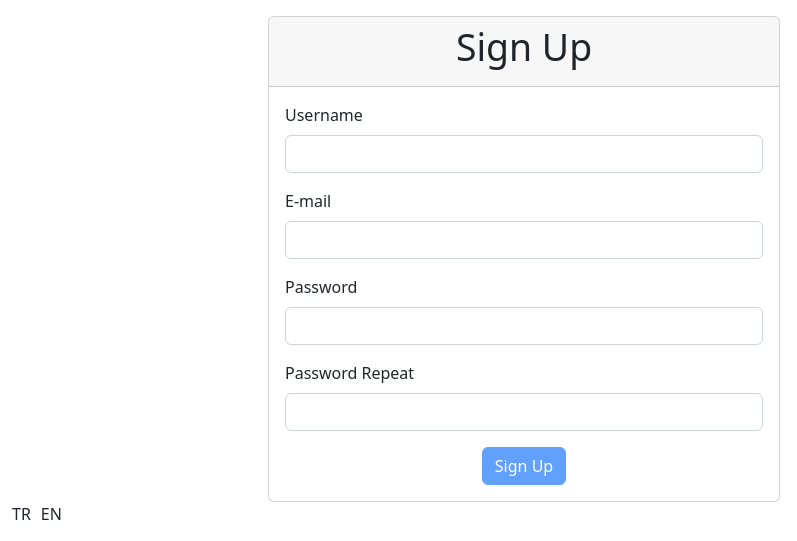
it: Sign Up Page › Internationalization › displays all text in Turkish after selecting that language
Click the text titled "Türkçe".
click(21, 514)  # box left=12, top=503, right=31, bottom=525
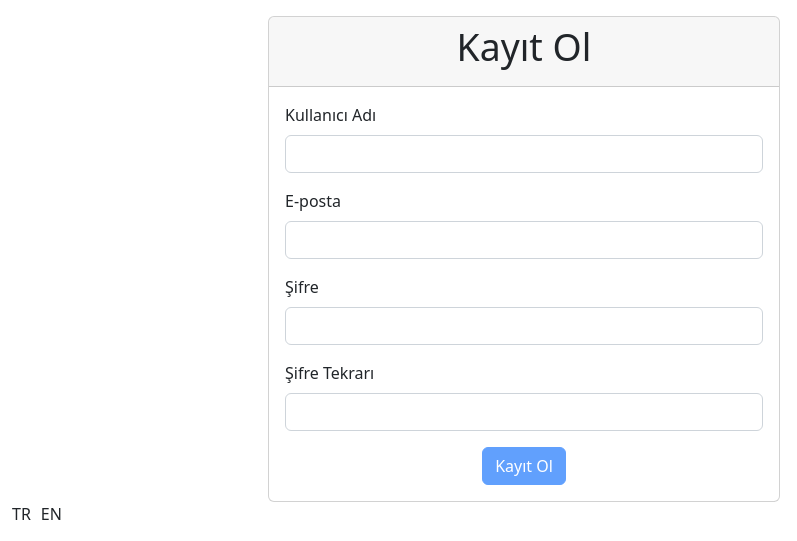
Expected: the field labelled "Kullanıcı Adı" is shown, left=285, top=135, right=763, bottom=173
Result: the heading "Kayıt Ol" is shown at left=457, top=21, right=591, bottom=72
Result: the button "Kayıt Ol" is shown at left=482, top=447, right=566, bottom=485
